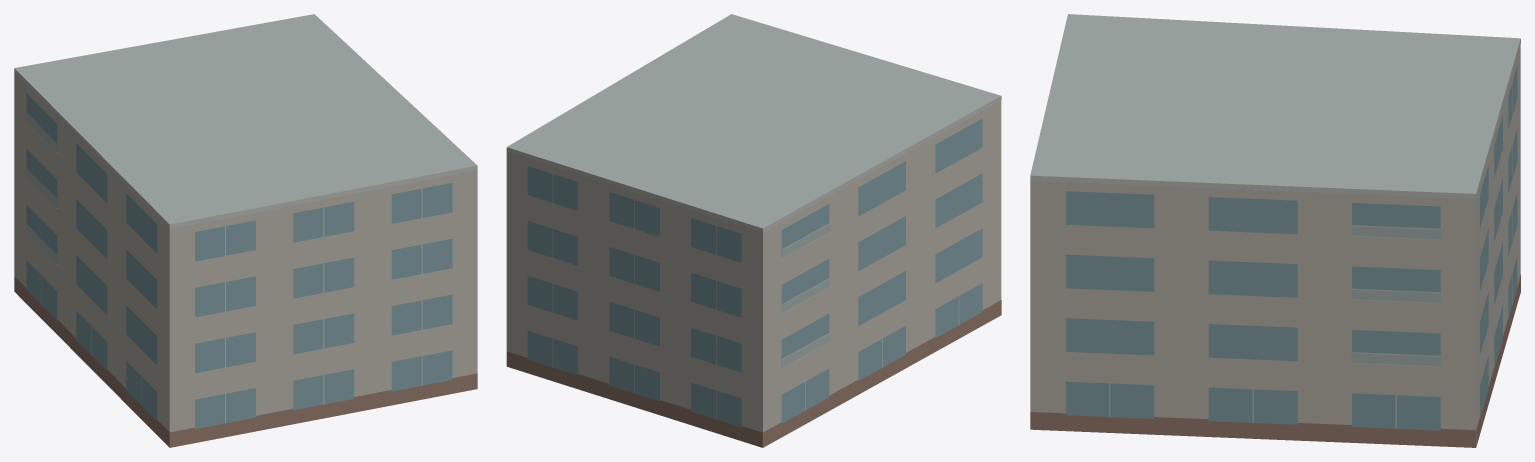
Rendered from survey-upis-32669147.glb.
3 views of the same model, side by side, from view 1: azimuth 30°, elevation 25°; view 2: azimuth 150°, elevation 25°; view 3: azimuth 270°, elevation 25° (orthographic). The views are drawn at different scales.
Parts seen in each view (by area): view 1: survey-upis-32669147.tmp; view 2: survey-upis-32669147.tmp; view 3: survey-upis-32669147.tmp.
Boxes of the visible parts, x1,y1,x2,y2 form: survey-upis-32669147.tmp: (14, 14, 477, 447); survey-upis-32669147.tmp: (506, 14, 1001, 447); survey-upis-32669147.tmp: (1030, 14, 1520, 447).
Bounding box in the file's own units: 18.39 × 12.1 × 21.19.
